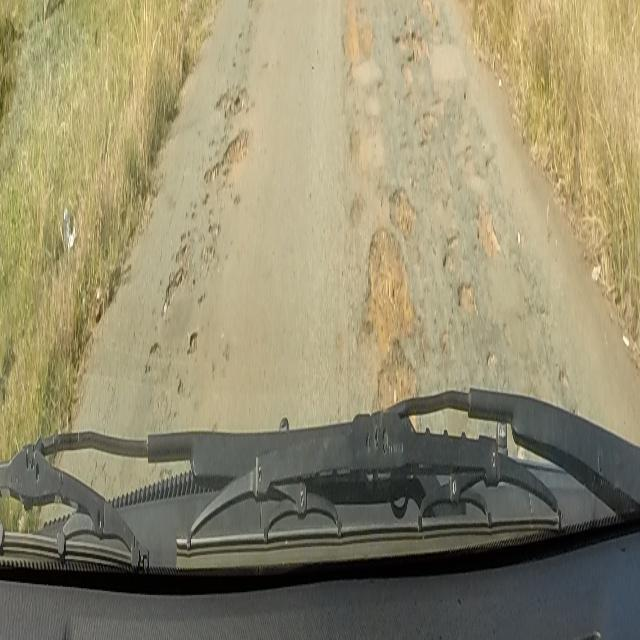pothole: (368, 178, 421, 422), (338, 0, 372, 161), (204, 80, 252, 191), (395, 16, 431, 82), (472, 197, 502, 266)
